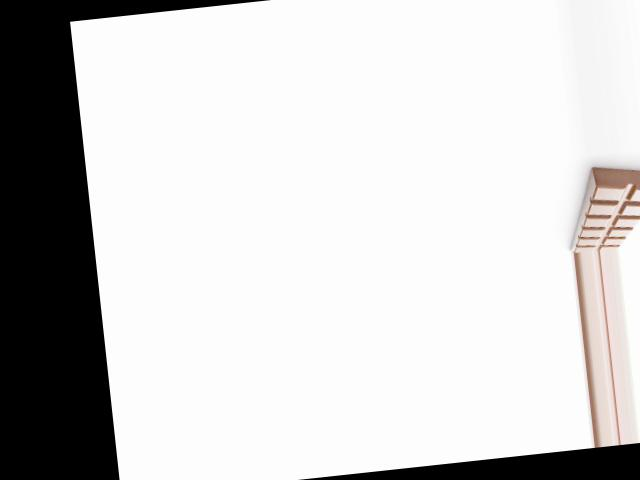chocolate: (555, 157, 640, 253)
